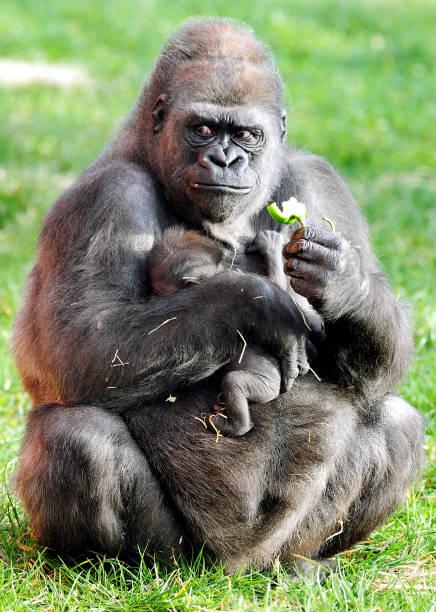gorille_Autres: (23, 2, 425, 588)
